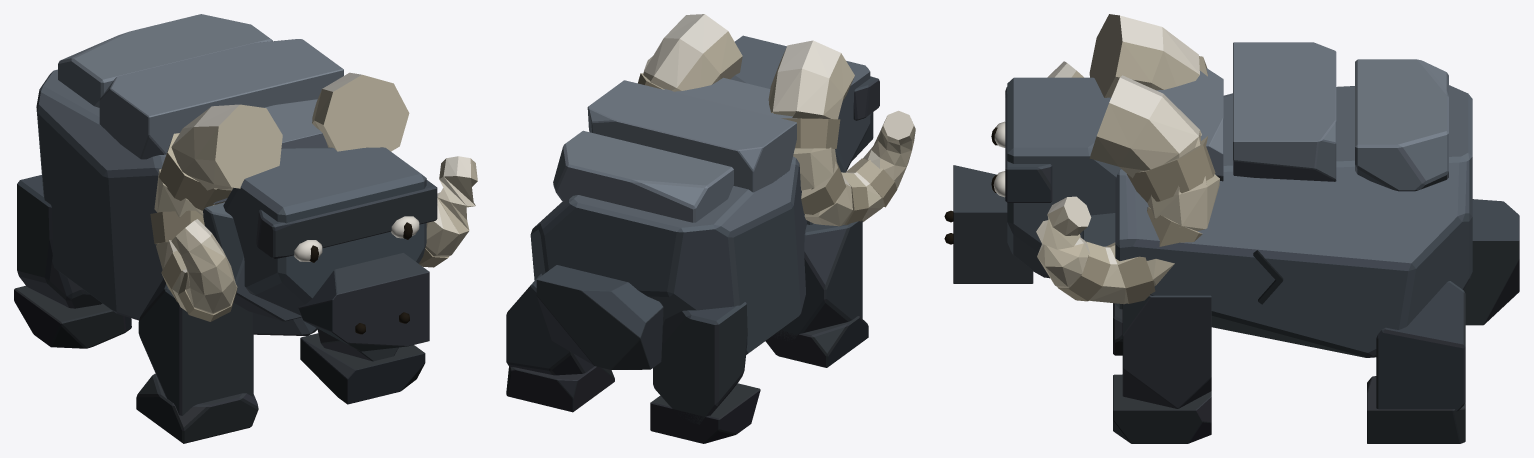
Rendered from belier.glb.
3 views of the same model, side by side, from view 1: azimuth 30°, elevation 25°; view 2: azimuth 150°, elevation 25°; view 3: azimuth 270°, elevation 25° (orthographic). The views are drawn at different scales.
Visible parts, largest first — view 1: tete.003, corps.004, patte_ag, patte_rg, patte_ad, yeux.003; view 2: corps.004, tete.003, patte_rg, patte_ag, patte_rd; view 3: corps.004, tete.003, patte_ad, patte_rd, yeux.003.
Part boxes in pixels (x1,y1,x2,y2): tete.003: (150,72,477,351); corps.004: (36,14,343,335); patte_ag: (136,278,258,443); patte_rg: (14,175,131,348); patte_ad: (300,329,425,404); yeux.003: (294,216,419,262); corps.004: (530,77,846,369); tete.003: (638,14,915,226); patte_rg: (650,302,760,443); patte_ag: (765,220,868,367); patte_rd: (506,273,614,412); corps.004: (1082,42,1519,357); tete.003: (944,14,1219,304); patte_ad: (1113,295,1211,443); patte_rd: (1367,281,1465,443); yeux.003: (991,121,1005,197).
Bounding box in the file's own units: 3.83 × 3.95 × 6.12.
